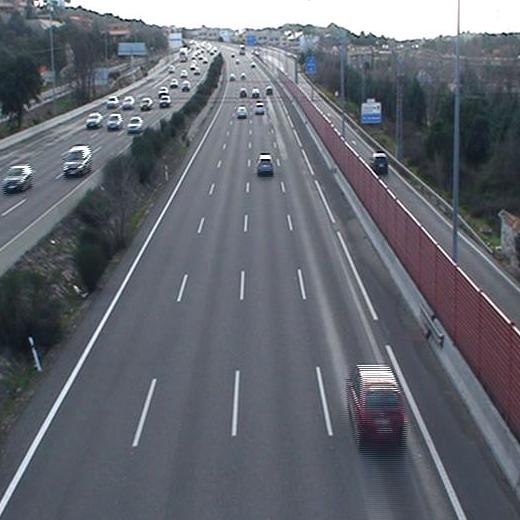car: (341, 358, 411, 456), (252, 148, 280, 181), (237, 105, 250, 120)
